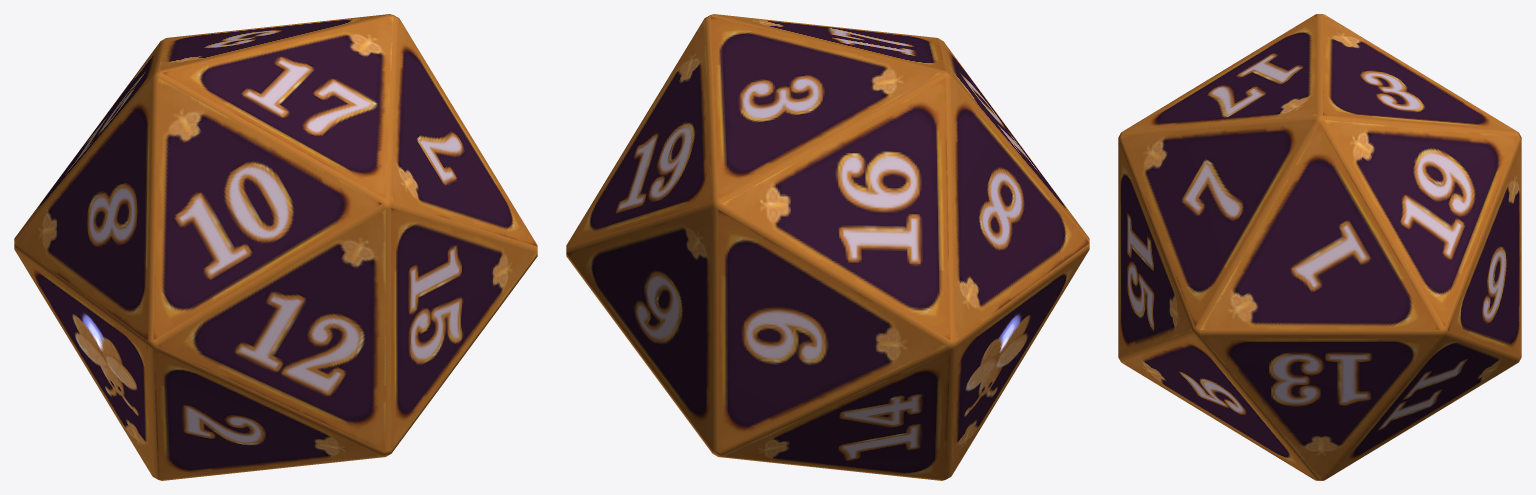
Rendered from d20-urikV2.glb.
3 views of the same model, side by side, from view 1: azimuth 30°, elevation 25°; view 2: azimuth 150°, elevation 25°; view 3: azimuth 270°, elevation 25° (orthographic). The views are drawn at different scales.
Visible parts, largest first — view 1: Mesh_0; view 2: Mesh_0; view 3: Mesh_0.
Part boxes in pixels (box(x1,y1,x2,y2)): Mesh_0: box(14, 14, 537, 480); Mesh_0: box(566, 14, 1089, 480); Mesh_0: box(1118, 14, 1521, 480).
Size of the model in its own units: 169 by 169 by 169.
Materials: 1 (1 with a texture image).
